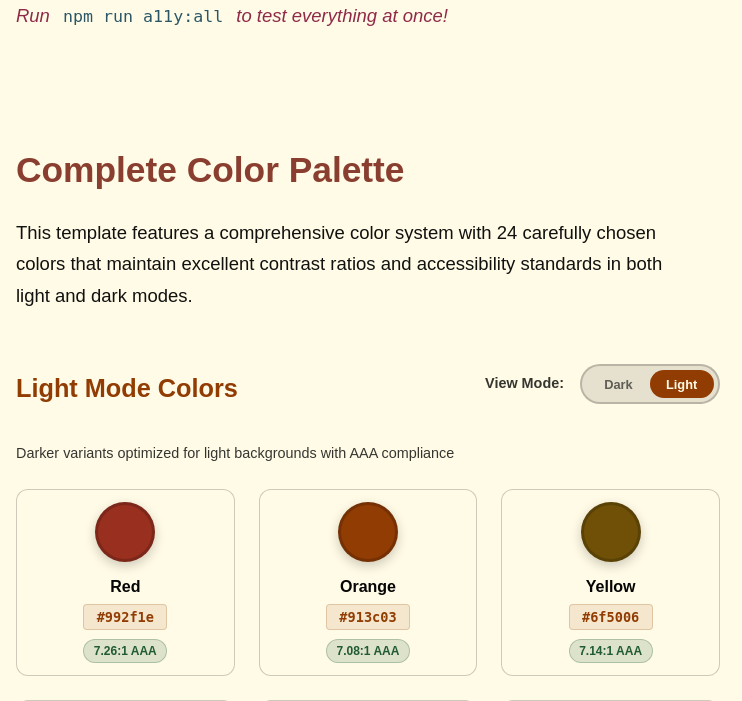
Test case: HomePage › toggles between light and dark mode
(page scrolled)
Check: the heading "Light Mode Colors" is shown, box [16, 368, 238, 409]
Click the button named "view mode" at coordinates (650, 384), box [580, 364, 720, 404]
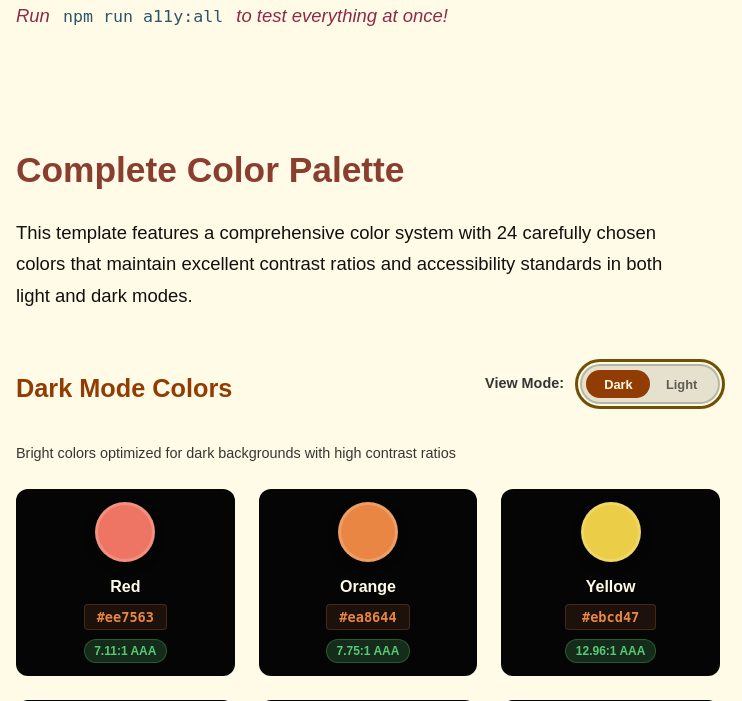
Check: the heading "Dark Mode Colors" is shown, box [16, 368, 232, 409]
Click the button named "view mode" at coordinates (650, 384), box [580, 364, 720, 404]
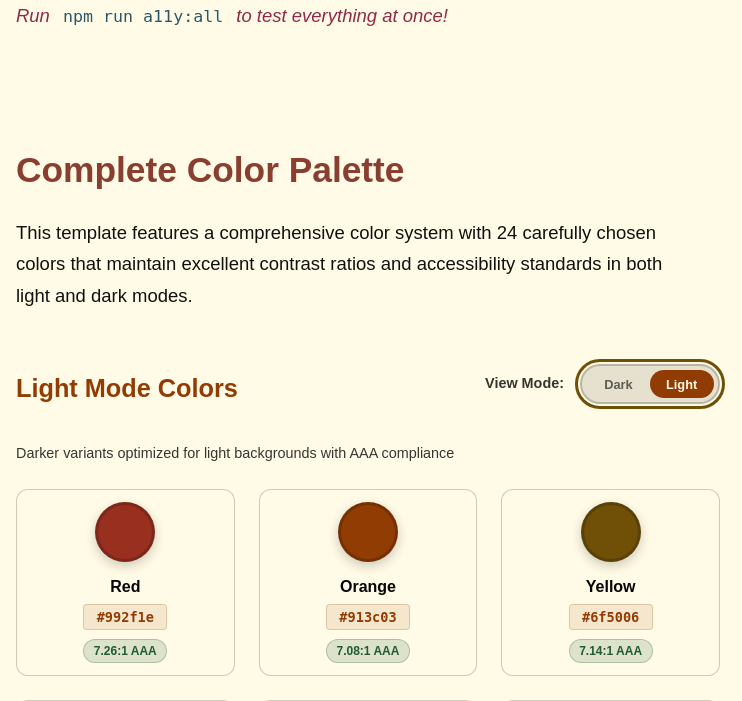
Check: the heading "Light Mode Colors" is shown, box [16, 368, 238, 409]
